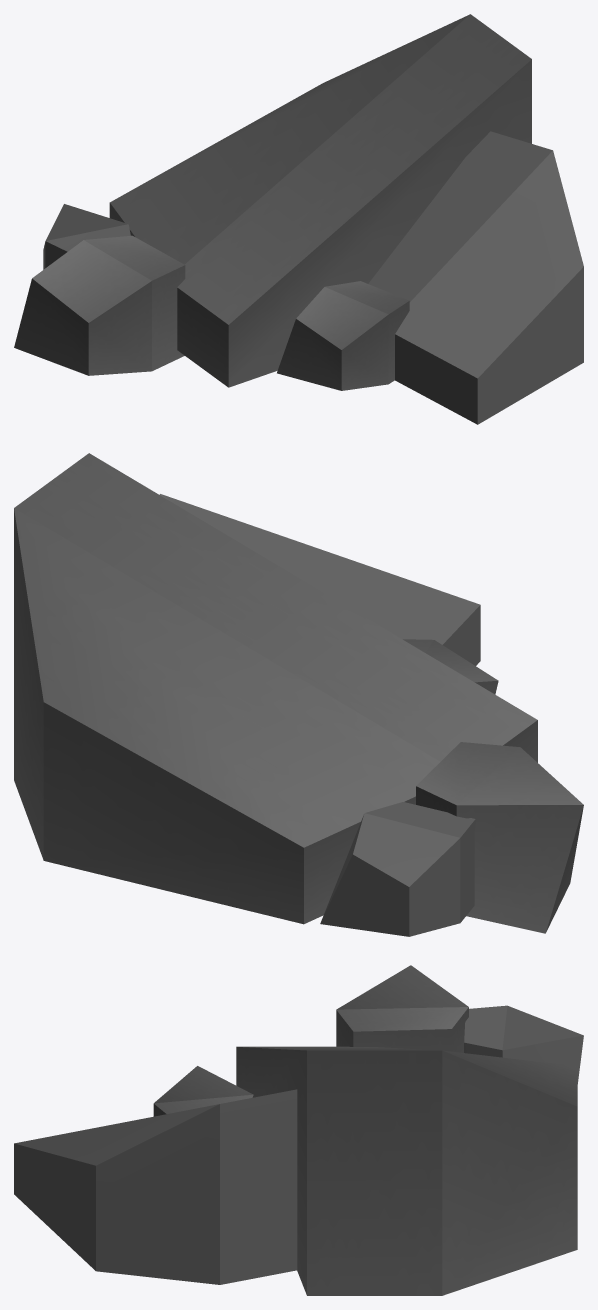
The model's file is pack02_rocks_17.fbx.
The picture shows the model from 3 angles, top to bottom: view 1: azimuth 30°, elevation 25°; view 2: azimuth 150°, elevation 25°; view 3: azimuth 270°, elevation 25°; orthographic projection. The views are drawn at different scales.
Visible parts, largest first — view 1: Rock Type5 01 mesh; view 2: Rock Type5 01 mesh; view 3: Rock Type5 01 mesh.
Boxes of the visible parts, x1=… form: Rock Type5 01 mesh: x1=14, y1=14, x2=583, y2=424; Rock Type5 01 mesh: x1=14, y1=453, x2=583, y2=936; Rock Type5 01 mesh: x1=14, y1=965, x2=583, y2=1295.
Size of the model in its own units: 194 by 95.23 by 192.
1 material, 1 textured.
